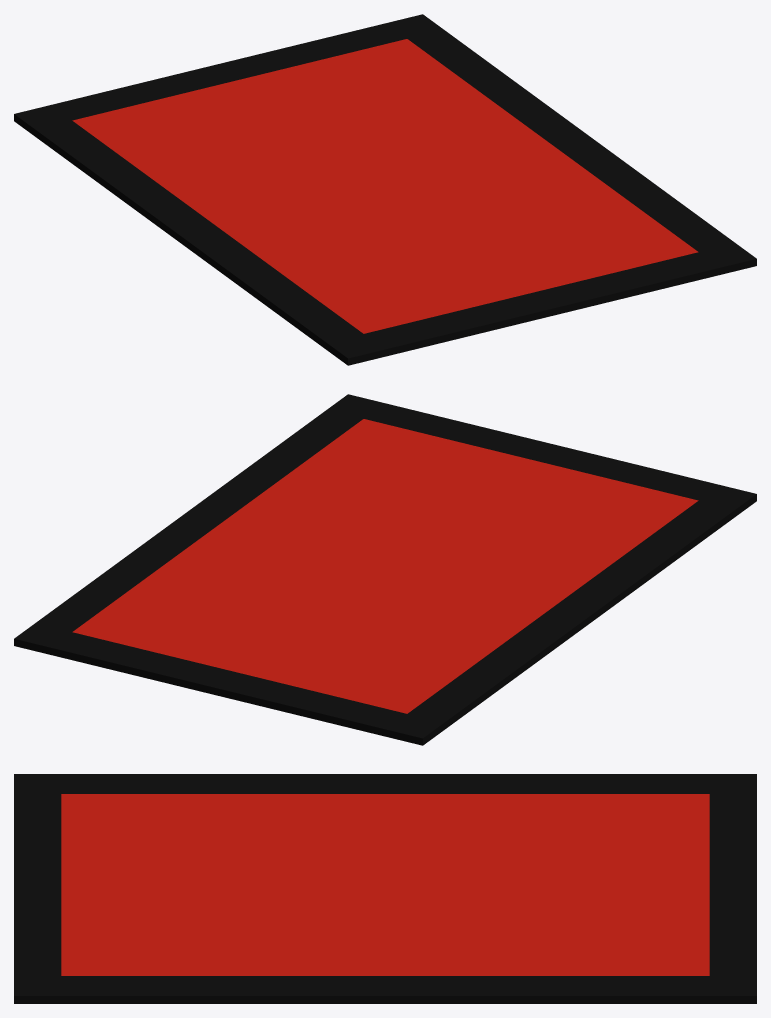
Rendered from tham Japan.FBX.
3 renders of one model, top to bottom at view 1: azimuth 30°, elevation 25°; view 2: azimuth 150°, elevation 25°; view 3: azimuth 270°, elevation 25°, orthographic. The views are drawn at different scales.
Visible parts, largest first — view 1: Box1211; view 2: Box1211; view 3: Box1211.
Boxes of the visible parts, x1,y1,x2,y2 form: Box1211: [14, 14, 756, 365]; Box1211: [14, 394, 756, 745]; Box1211: [14, 774, 756, 1003].
Bounding box in the file's own units: 5.23 × 0.0884 × 7.4.
